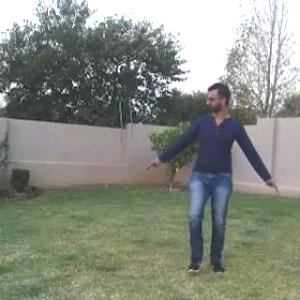land: (135, 77, 297, 290)
